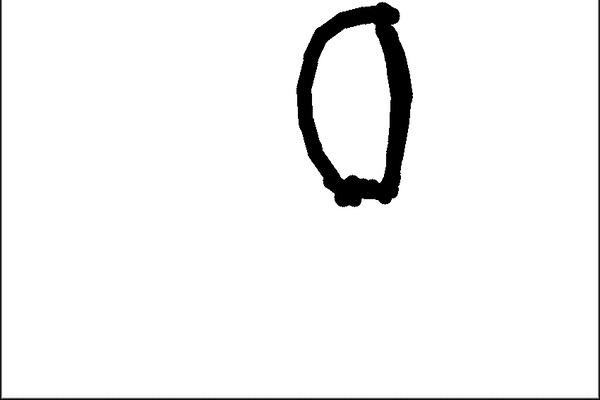O: (276, 0, 426, 215)
